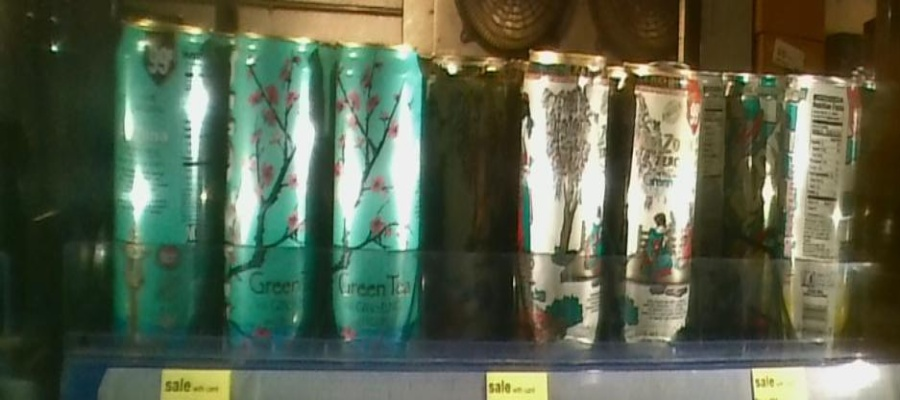bottle: (218, 11, 326, 374), (106, 8, 216, 361), (328, 14, 427, 366), (518, 35, 612, 366), (614, 43, 698, 381), (431, 49, 510, 357), (783, 72, 863, 359), (701, 42, 728, 358)
